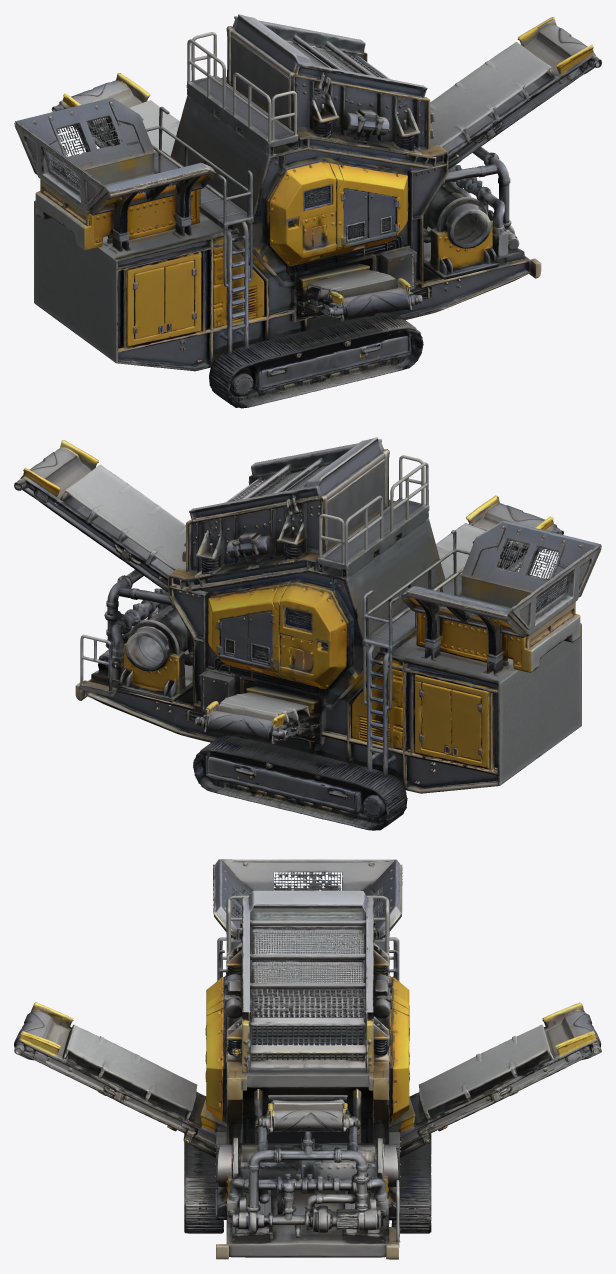
File: plan-3.glb
3 views of the same model, one above another, from view 1: azimuth 30°, elevation 25°; view 2: azimuth 150°, elevation 25°; view 3: azimuth 270°, elevation 25° (orthographic).
Parts seen in each view (by area): view 1: tripo_part_2, tripo_part_6, tripo_part_1, tripo_part_0, tripo_part_27, tripo_part_7, tripo_part_52, tripo_part_4, tripo_part_11, tripo_part_12, tripo_part_10, tripo_part_8 (+32 smaller); view 2: tripo_part_1, tripo_part_6, tripo_part_2, tripo_part_0, tripo_part_3, tripo_part_7, tripo_part_57, tripo_part_4, tripo_part_11, tripo_part_23, tripo_part_29, tripo_part_8 (+31 smaller); view 3: tripo_part_3, tripo_part_4, tripo_part_1, tripo_part_19, tripo_part_5, tripo_part_20, tripo_part_18, tripo_part_0, tripo_part_33, tripo_part_43, tripo_part_35, tripo_part_17 (+22 smaller).
Boxes of the visible parts, box(x1,y1,x2,y2) form: tripo_part_2: box(170, 96, 420, 331); tripo_part_6: box(34, 200, 293, 364); tripo_part_1: box(15, 121, 216, 250); tripo_part_0: box(226, 23, 424, 151); tripo_part_27: box(268, 162, 408, 266); tripo_part_7: box(34, 281, 301, 371); tripo_part_52: box(126, 251, 201, 346); tripo_part_4: box(233, 14, 427, 97); tripo_part_11: box(186, 32, 309, 155); tripo_part_12: box(15, 98, 154, 167); tripo_part_10: box(245, 315, 420, 402); tripo_part_8: box(442, 42, 601, 169); tripo_part_1: box(416, 520, 601, 672); tripo_part_6: box(322, 623, 581, 786); tripo_part_2: box(194, 519, 563, 754); tripo_part_0: box(192, 445, 389, 573); tripo_part_3: box(168, 474, 318, 709); tripo_part_7: box(314, 686, 581, 793); tripo_part_57: box(414, 674, 489, 769); tripo_part_4: box(189, 437, 382, 520); tripo_part_11: box(306, 455, 429, 578); tripo_part_23: box(279, 585, 347, 688); tripo_part_29: box(197, 751, 367, 814); tripo_part_8: box(14, 465, 173, 592); tripo_part_3: box(237, 927, 409, 1154); tripo_part_4: box(240, 890, 373, 1022); tripo_part_1: box(213, 859, 397, 939); tripo_part_19: box(216, 1189, 400, 1259); tripo_part_5: box(217, 1137, 398, 1193); tripo_part_20: box(419, 1024, 553, 1118); tripo_part_18: box(228, 1131, 399, 1233); tripo_part_0: box(223, 903, 392, 1068); tripo_part_33: box(14, 1037, 200, 1133); tripo_part_43: box(105, 1055, 197, 1121); tripo_part_35: box(226, 1068, 372, 1153); tripo_part_17: box(184, 1143, 223, 1232).
Size of the model in its own units: 0.9802 by 0.5566 by 0.9731.
Materials: 105 (105 with a texture image).
